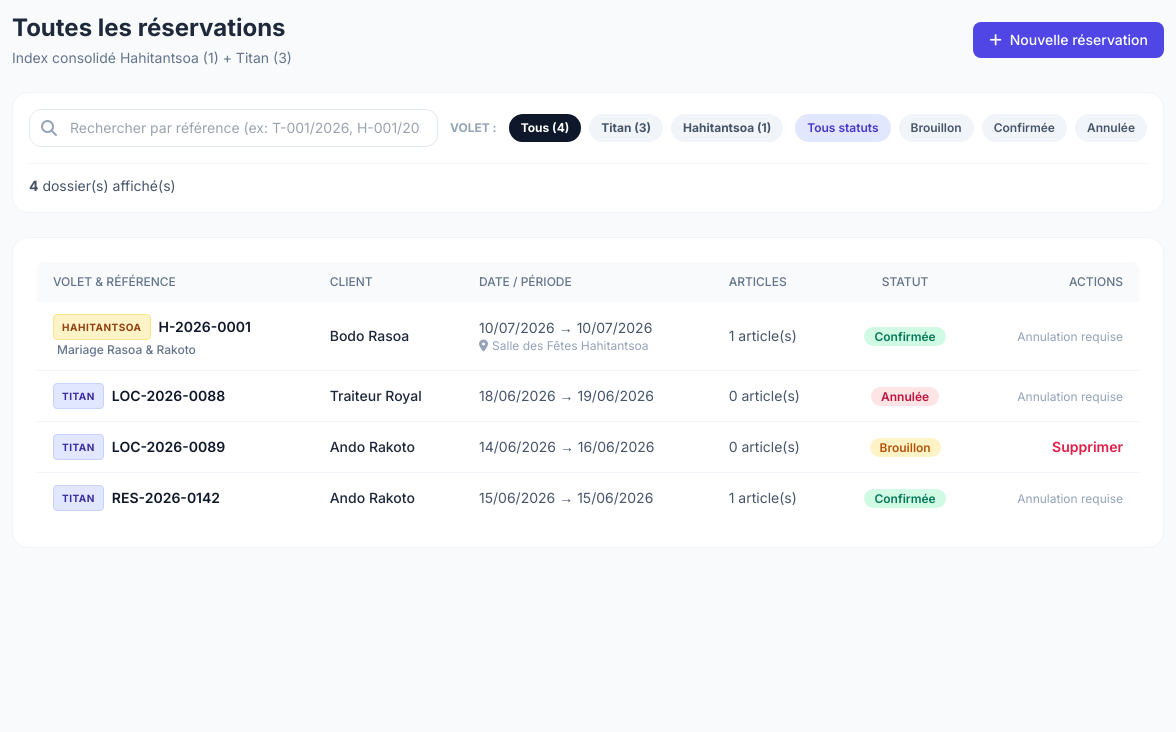
Scenario: ReservationsPage › supprime uniquement un brouillon pour un utilisateur autorisé
Expected: the button "LOC-2026-0089" is shown, [112, 437, 225, 457]
Click the button "Supprimer" at (1088, 447), box [1052, 437, 1123, 457]
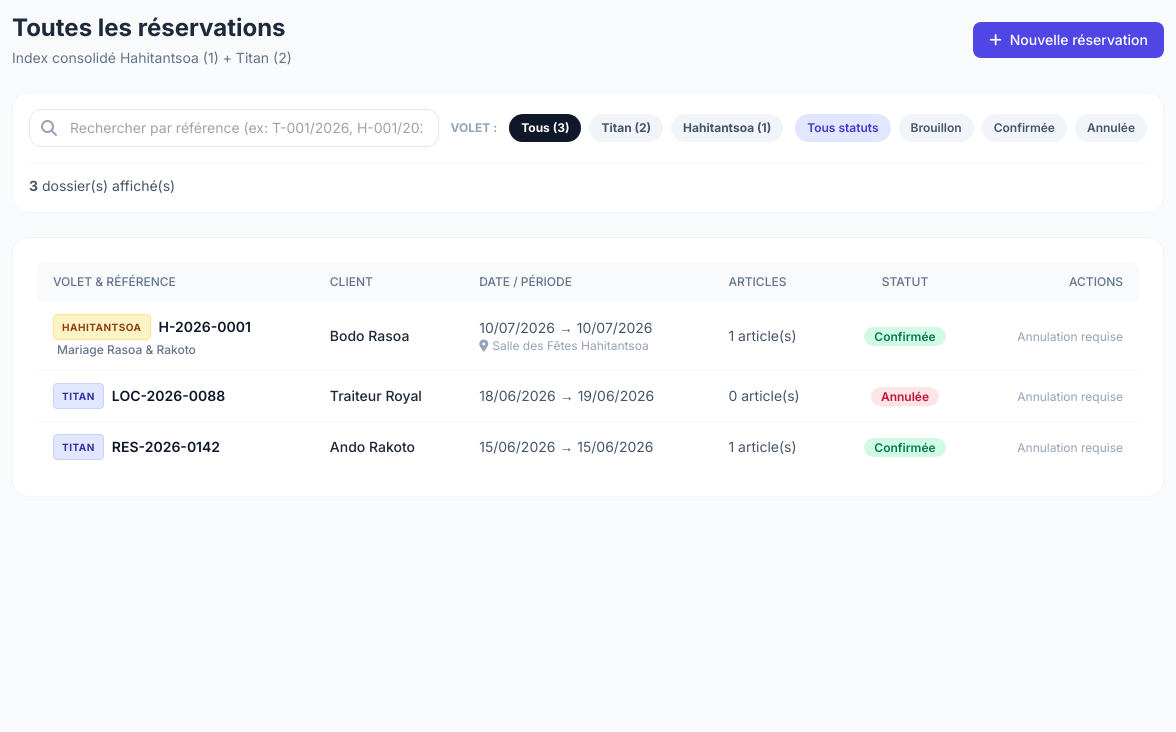
Expected: the button "RES-2026-0142" is shown, [112, 437, 220, 457]
Now the button "LOC-2026-0089" is gone
